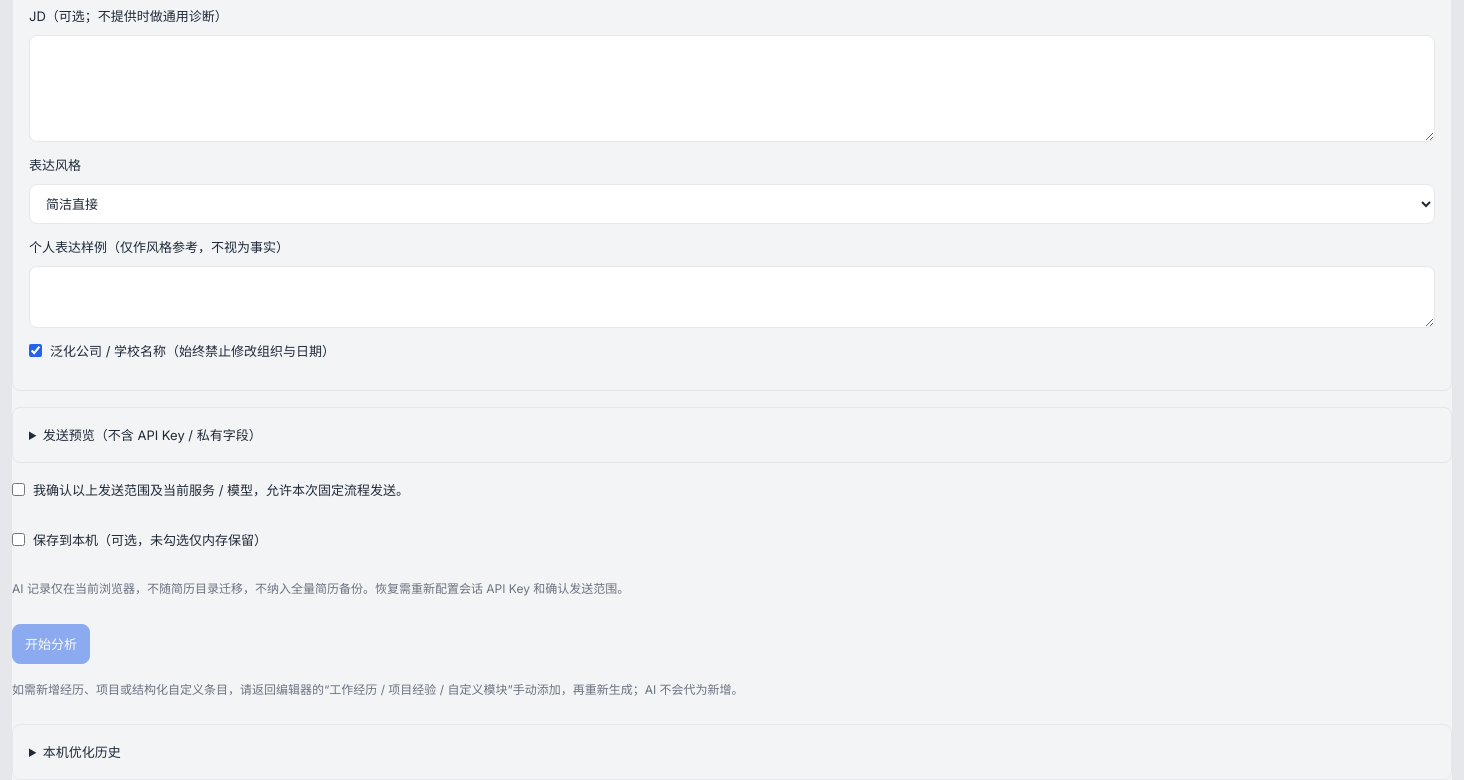
ResumeOptimizationPanel › offers compatibility only after error, keeps manual retry, and warns on close
The width and height of the screenshot is (1464, 780).
(page scrolled)
Expected: the text "兼容模式：" is not shown
Click the checkbox with test id "consent". click: (18, 490)
box: [12,483,25,496]
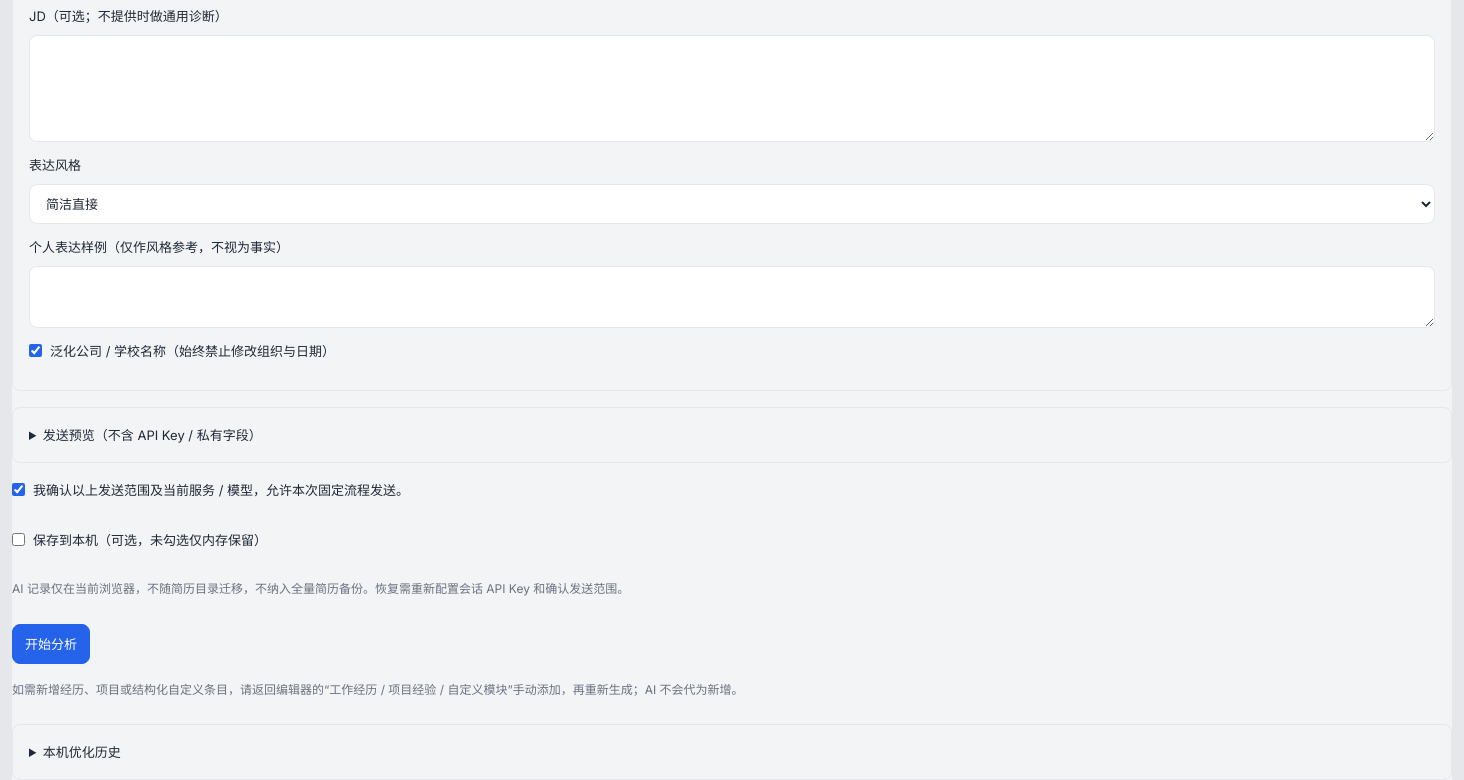
Click the button with test id "start". click: (51, 644)
box: [12,624,90,664]
(page scrolled)
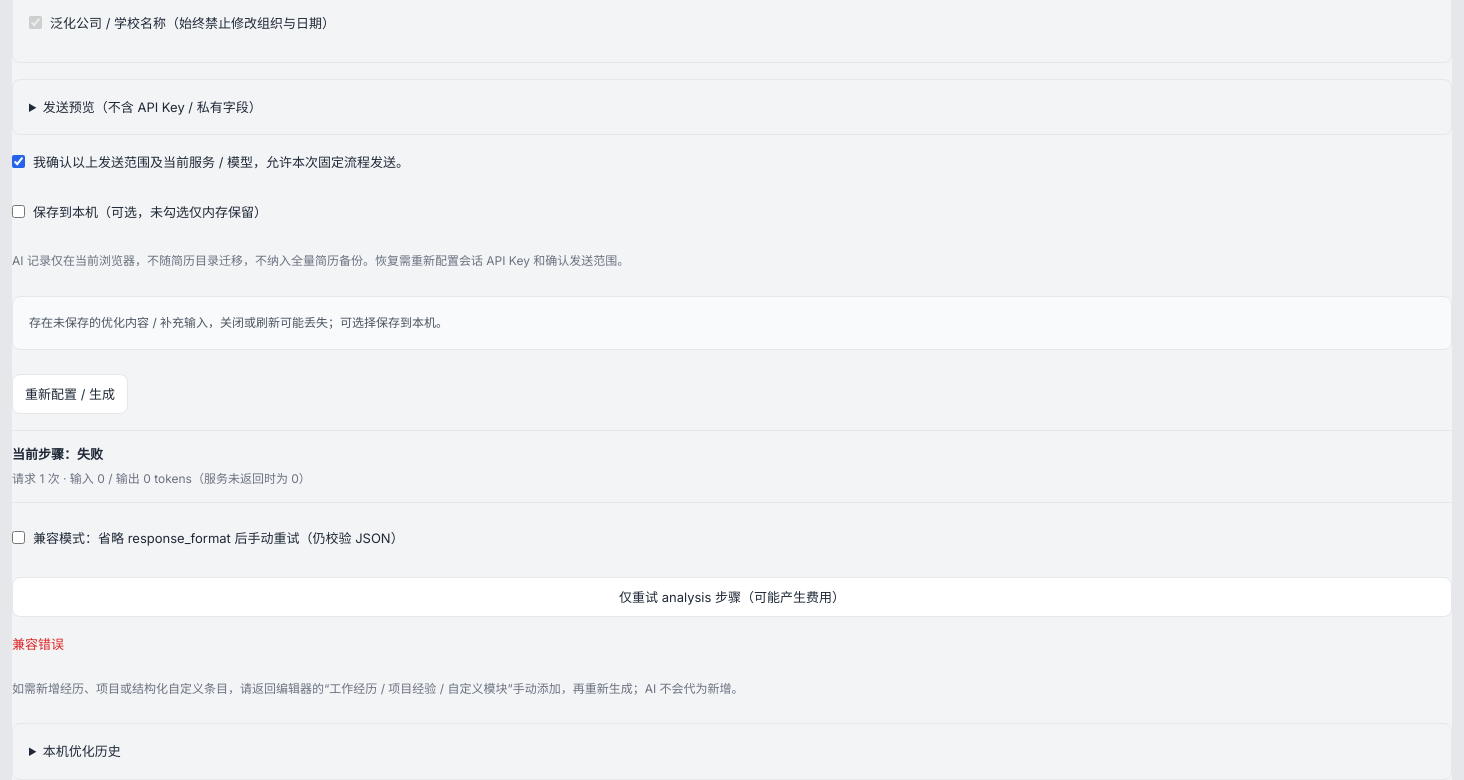
Expected: the text "兼容模式：" is shown, [33,530,404,546]
Expected: the button with test id "retry" is shown, [12,577,1452,617]
